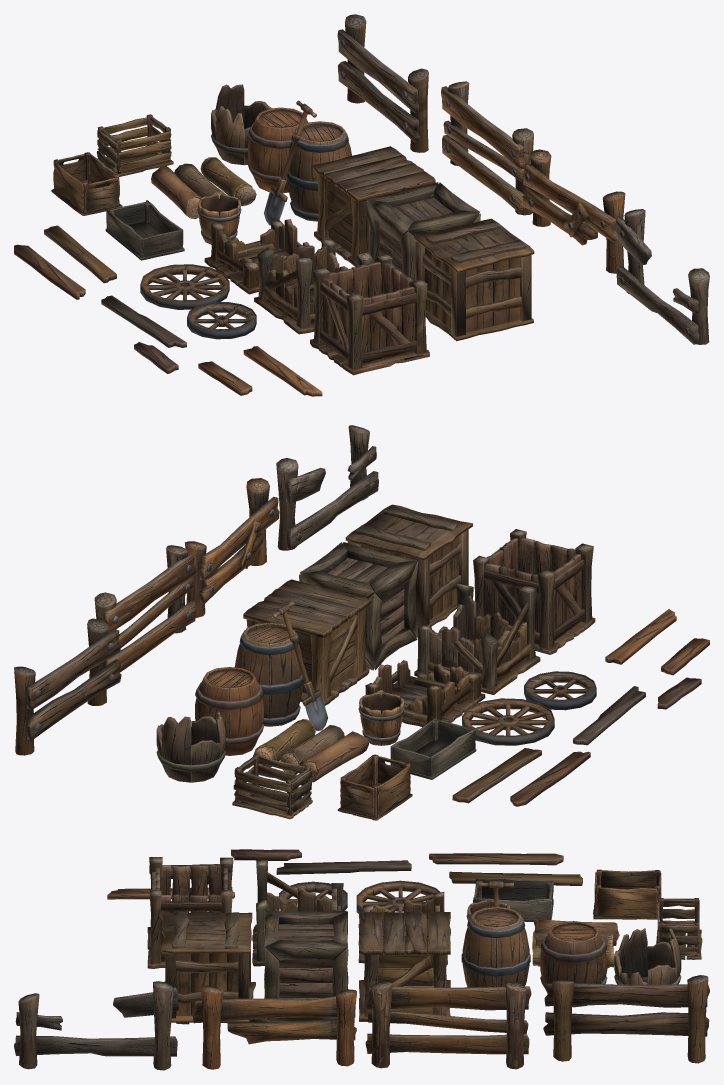
Rendered from Stylized_Wood_Props.fbx.
3 renders of one model, top to bottom at view 1: azimuth 30°, elevation 25°; view 2: azimuth 150°, elevation 25°; view 3: azimuth 270°, elevation 25°, orthographic. The views are drawn at different scales.
Parts seen in each view (by area): view 1: box3_0, box4_0, box1_0, fence1_0, box2_0, fence2_0, fence3_0, box broken1_0, fence4_0, Barrel2_0, Small_box2_0, box broken2_0 (+17 smaller); view 2: box4_0, box1_0, box broken1_0, box3_0, box2_0, fence2_0, fence1_0, fence4_0, fence3_0, Barrel2_0, box broken2_0, Barrel1_0 (+17 smaller); view 3: fence1_0, fence2_0, box3_0, fence3_0, box2_0, box1_0, fence4_0, box4_0, Barrel2_0, Barrel1_0, Small box1_0, Barrel_broken_0 (+13 smaller).
Boxes of the visible parts, left/top/right/bottom form: box3_0: left=414, top=218, right=534, bottom=341; box4_0: left=310, top=253, right=429, bottom=375; box1_0: left=312, top=146, right=435, bottom=266; fence1_0: left=441, top=81, right=533, bottom=215; box2_0: left=366, top=182, right=480, bottom=281; fence2_0: left=337, top=14, right=428, bottom=152; fence3_0: left=522, top=149, right=625, bottom=273; box broken1_0: left=254, top=238, right=373, bottom=334; fence4_0: left=616, top=209, right=709, bottom=344; Barrel2_0: left=286, top=121, right=351, bottom=221; Small_box2_0: left=96, top=114, right=173, bottom=176; box broken2_0: left=204, top=219, right=309, bottom=294; box4_0: left=473, top=529, right=595, bottom=654; box1_0: left=243, top=579, right=371, bottom=705; box broken1_0: left=414, top=584, right=540, bottom=694; box3_0: left=345, top=504, right=472, bottom=630; box2_0: left=299, top=542, right=418, bottom=670; fence2_0: left=14, top=618, right=121, bottom=755; fence1_0: left=94, top=545, right=196, bottom=672; fence4_0: left=276, top=425, right=378, bottom=550; fence3_0: left=184, top=478, right=279, bottom=617; Barrel2_0: left=234, top=622, right=303, bottom=726; box broken2_0: left=365, top=660, right=485, bottom=726; Barrel1_0: left=195, top=667, right=264, bottom=755; fence1_0: left=365, top=981, right=531, bottom=1069; fence2_0: left=543, top=975, right=709, bottom=1063; box3_0: left=160, top=911, right=255, bottom=1024; fence3_0: left=192, top=985, right=356, bottom=1069; box2_0: left=264, top=910, right=348, bottom=1022; box1_0: left=359, top=911, right=450, bottom=1021; fence4_0: left=14, top=981, right=178, bottom=1070; box4_0: left=147, top=857, right=233, bottom=968; Barrel2_0: left=461, top=907, right=530, bottom=987; Barrel1_0: left=540, top=921, right=607, bottom=1007; Small box1_0: left=593, top=869, right=661, bottom=919; Barrel_broken_0: left=614, top=927, right=681, bottom=984.
Size of the model in its own units: 12.13 by 2.94 by 16.29.
